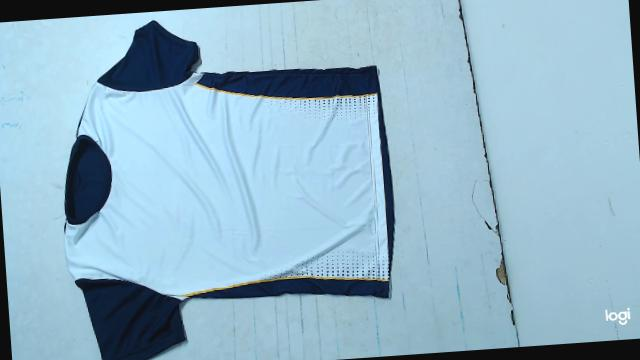new-garment: (64, 20, 393, 360)
